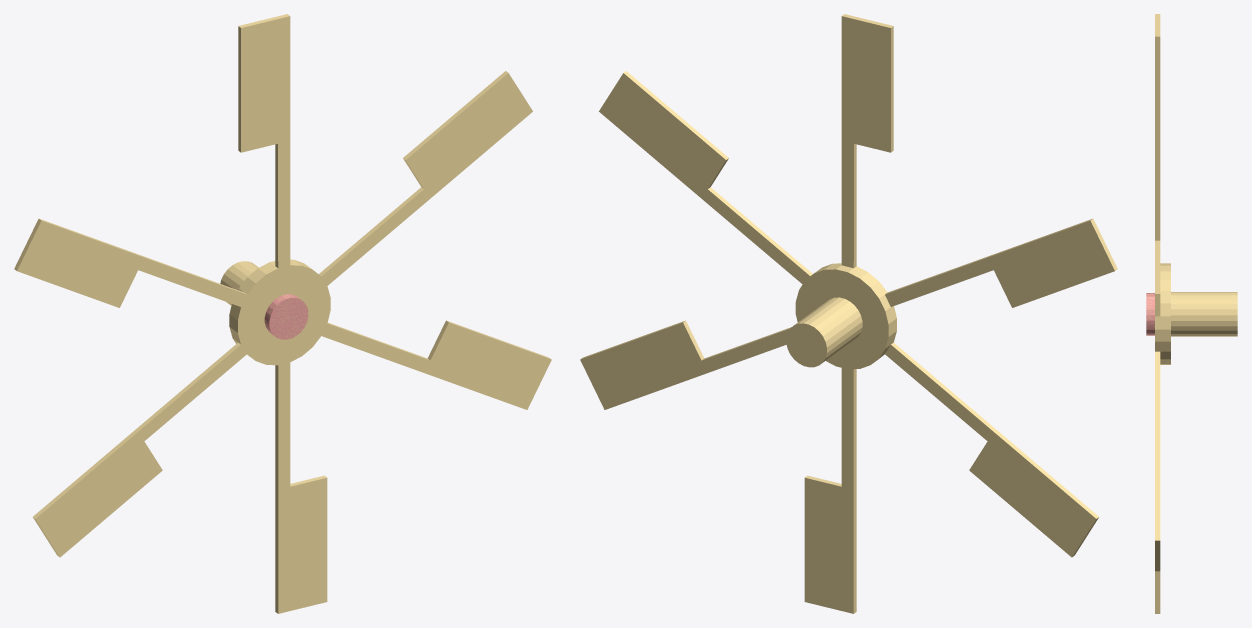
File: cringe.fbx
The picture shows the model from 3 angles, left to right: view 1: azimuth 30°, elevation 25°; view 2: azimuth 150°, elevation 25°; view 3: azimuth 270°, elevation 25°; orthographic projection. The views are drawn at different scales.
Visible parts, largest first — view 1: ID5, ID19; view 2: ID5, ID13; view 3: ID5, ID13, ID19.
Part boxes in pixels (<box>): ID5: <box>14,14,551,613</box>; ID19: <box>264,294,308,339</box>; ID5: <box>580,14,1117,613</box>; ID13: <box>786,297,862,367</box>; ID5: <box>1155,14,1170,613</box>; ID13: <box>1171,292,1237,336</box>; ID19: <box>1146,293,1154,335</box>.
Bounding box in the file's own units: 17351 × 18439 × 2734.
